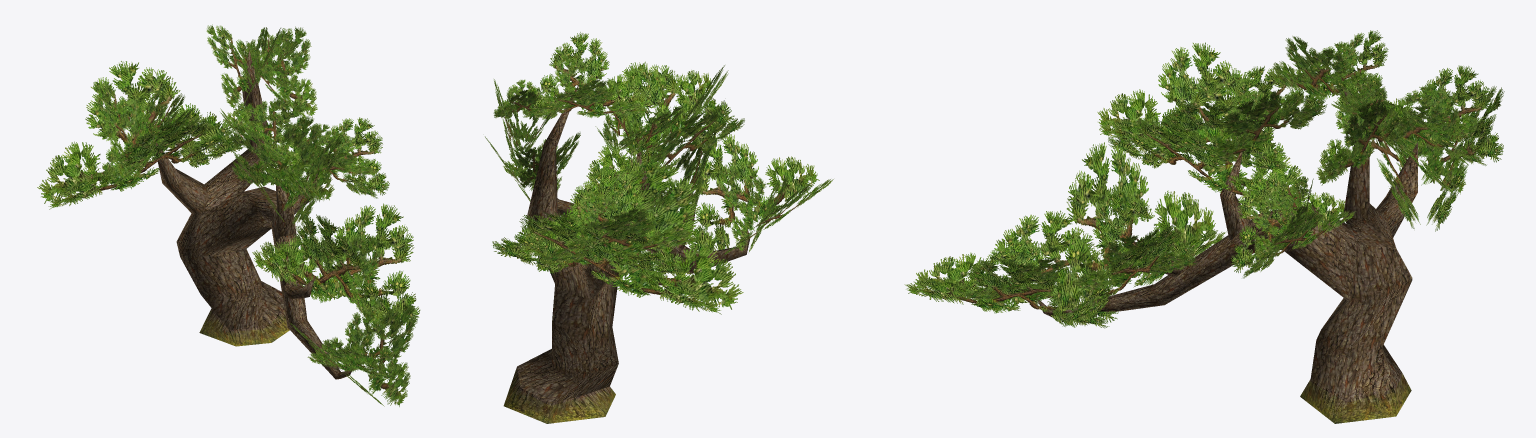
File: tre_pine01.glb
The picture shows the model from 3 angles, left to right: view 1: azimuth 30°, elevation 25°; view 2: azimuth 150°, elevation 25°; view 3: azimuth 270°, elevation 25°; orthographic projection. The views are drawn at different scales.
Parts seen in each view (by area): view 1: tre_pine01_leaf, tre_pine01_pin, tre_pine01_pin01; view 2: tre_pine01_leaf, tre_pine01_pin, tre_pine01_pin01; view 3: tre_pine01_leaf, tre_pine01_pin, tre_pine01_pin01.
Boxes of the visible parts, box(x1,y1,x2,y2) form: tre_pine01_leaf: box(37, 24, 420, 406); tre_pine01_pin: box(153, 50, 352, 379); tre_pine01_pin01: box(199, 308, 289, 346); tre_pine01_leaf: box(485, 32, 833, 314); tre_pine01_pin: box(517, 83, 749, 403); tre_pine01_pin01: box(503, 367, 615, 423); tre_pine01_leaf: box(904, 30, 1504, 328); tre_pine01_pin: box(1036, 74, 1417, 399); tre_pine01_pin01: box(1300, 373, 1411, 423).
Size of the model in its own units: 11.3 by 11.34 by 17.48.
3 materials, 3 textured.
